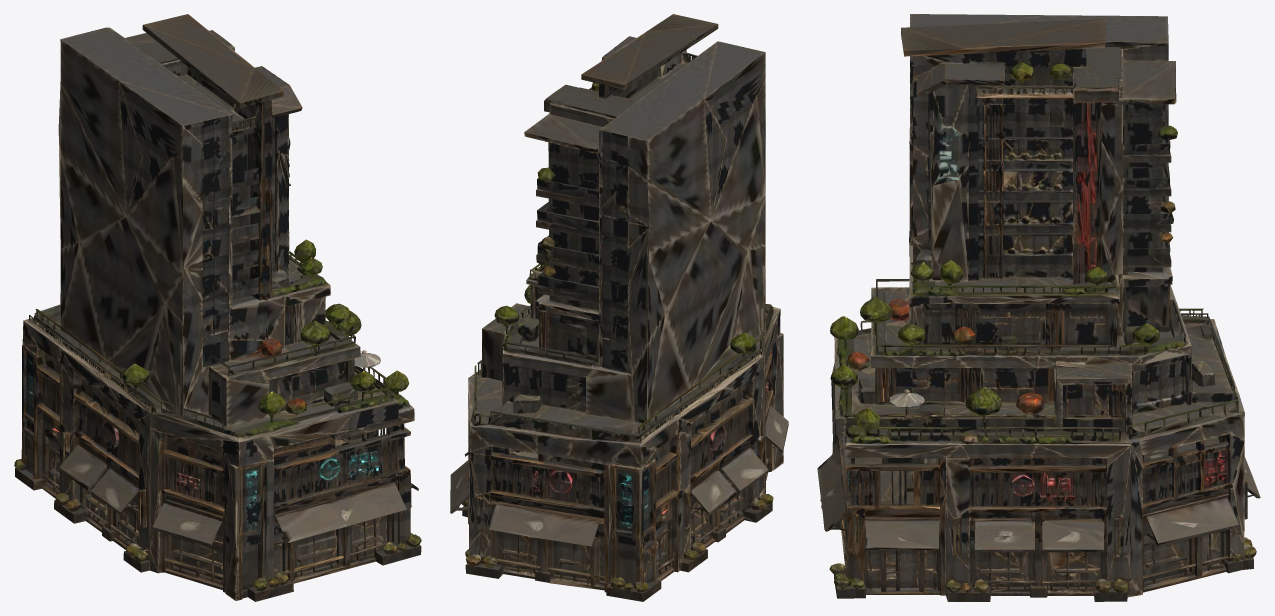
The picture shows the model from 3 angles, left to right: view 1: azimuth 30°, elevation 25°; view 2: azimuth 150°, elevation 25°; view 3: azimuth 270°, elevation 25°; orthographic projection. The views are drawn at different scales.
Visible parts, largest first — view 1: b04; view 2: b04; view 3: b04.
Part boxes in pixels (<box>): b04: <box>14,14,421,601</box>; b04: <box>450,14,788,601</box>; b04: <box>817,14,1260,601</box>.
Bounding box in the file's own units: 31.02 × 56 × 44.87.
1 material, 1 textured.
